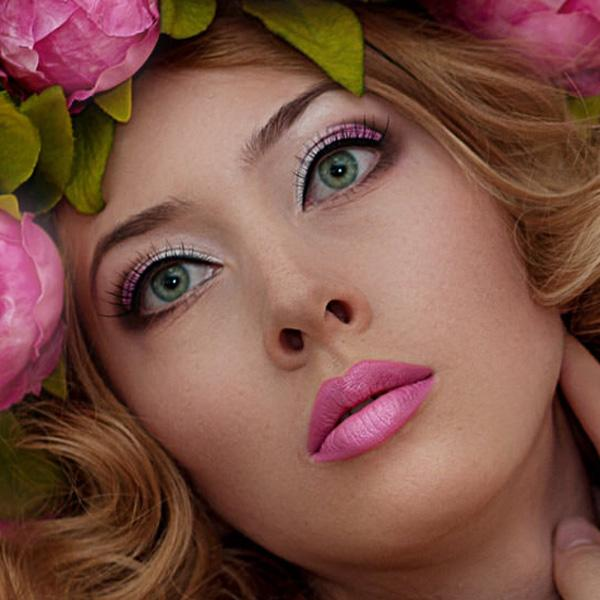Eyes: (284, 118, 395, 221), (114, 238, 232, 329)
